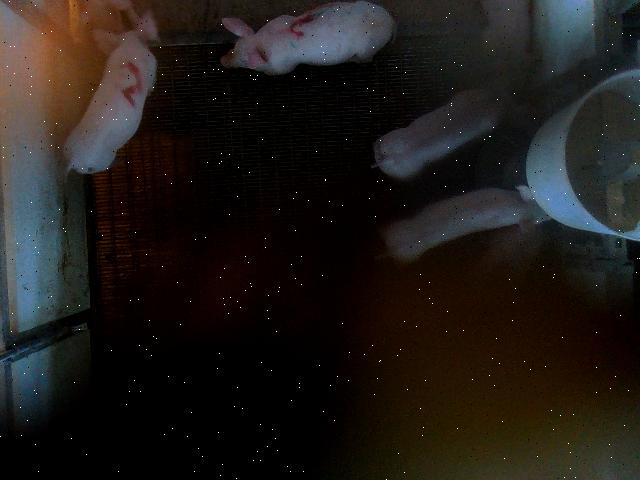pig-2: (64, 13, 158, 174)
pig-3: (221, 1, 395, 75)
